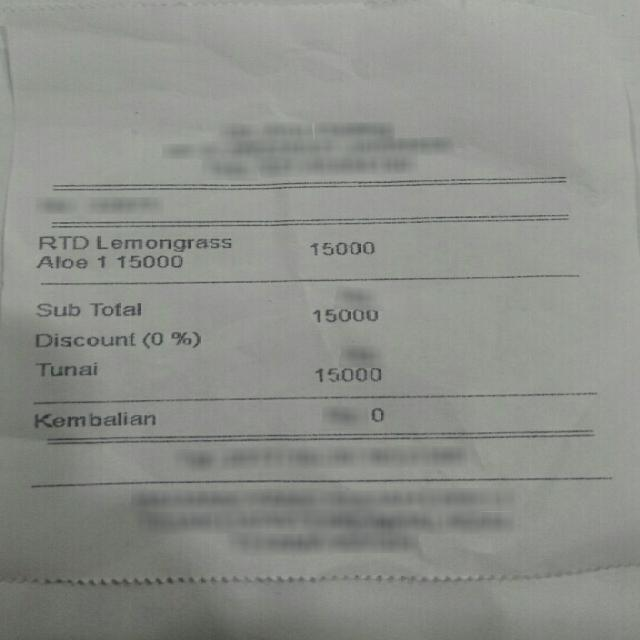kertas: (4, 0, 638, 581)
